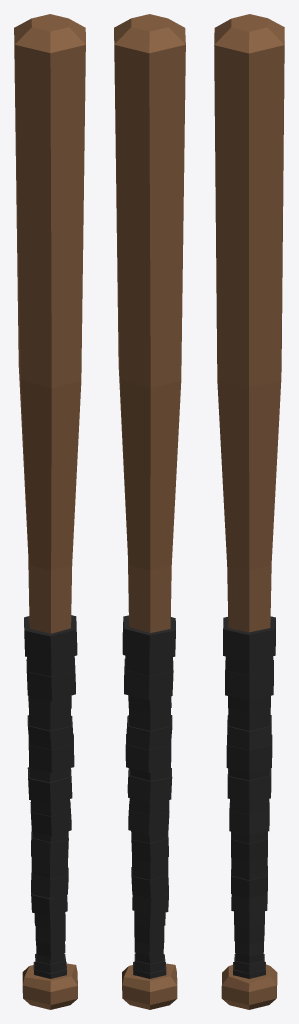
The model's file is bat.glb.
The picture shows the model from 3 angles, left to right: view 1: azimuth 30°, elevation 25°; view 2: azimuth 210°, elevation 25°; view 3: azimuth 270°, elevation 25°; orthographic projection.
Parts seen in each view (by area): view 1: Cube; view 2: Cube; view 3: Cube.
Part boxes in pixels (x1,y1,x2,y2): Cube: [14, 14, 85, 1009]; Cube: [114, 14, 185, 1009]; Cube: [214, 14, 284, 1009].
Size of the model in its own units: 0.697 by 9.23 by 0.605.
